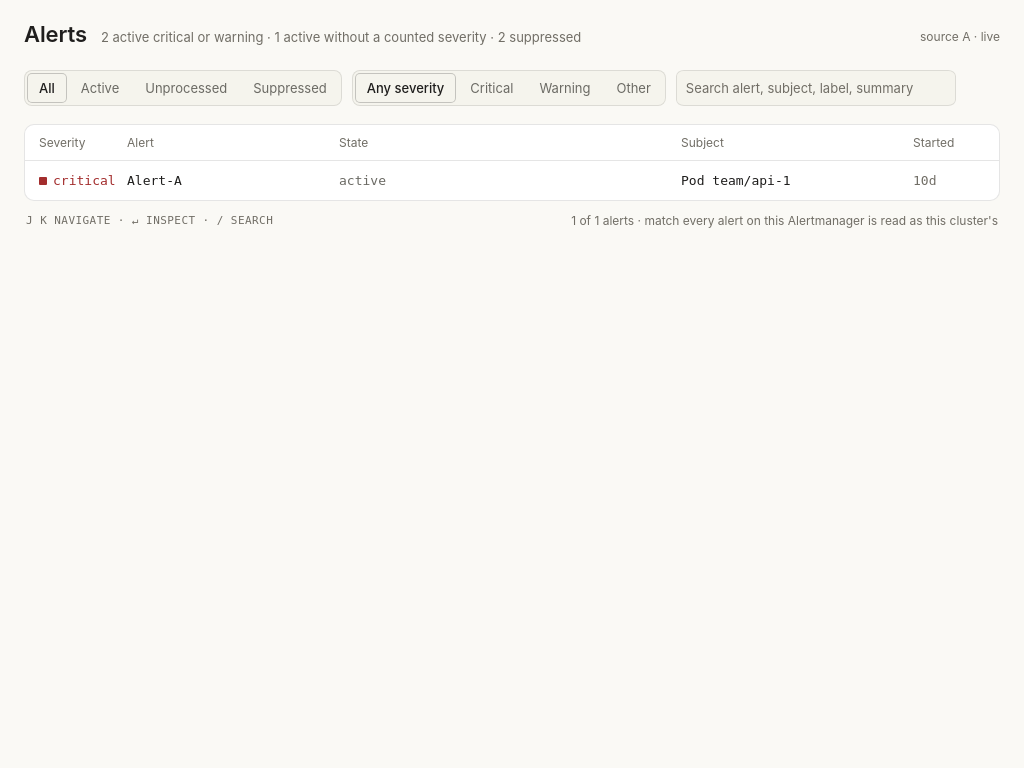
Test case: AlertsView after the implementation review › a re-keyed generation not read yet ends the selection too
Click the button with test id "alert-row-Alert-A": (84, 180) 25,161 -> 999,201
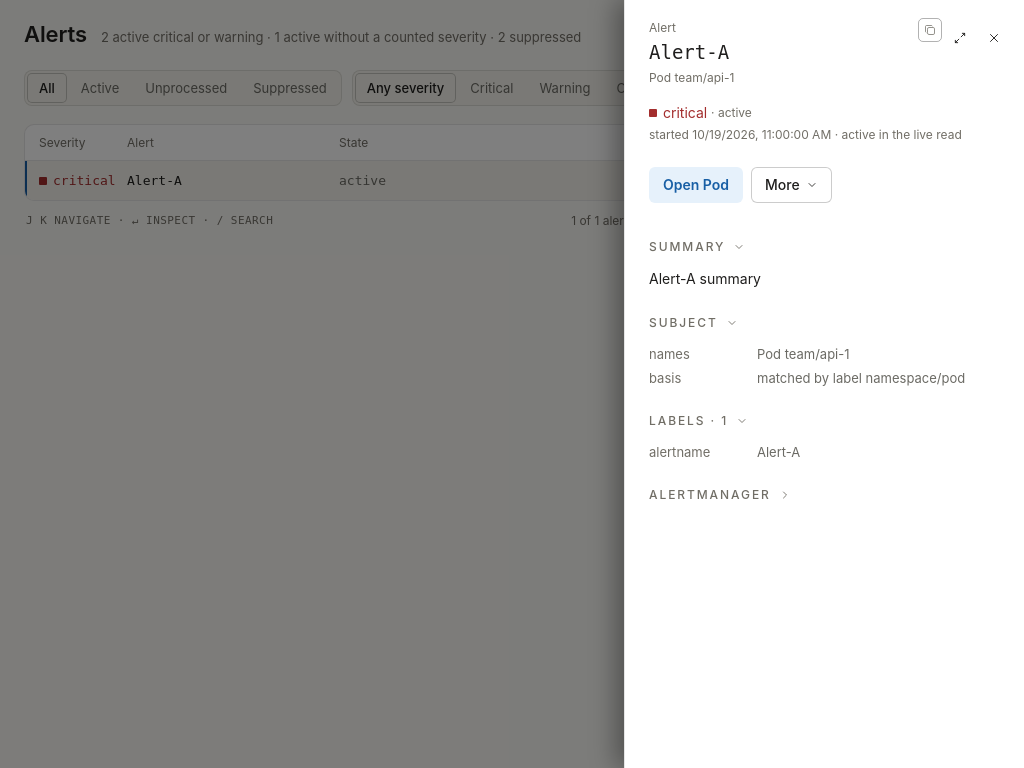
Result: the element with test id "alert-panel" is shown at 625,0 -> 1023,767
